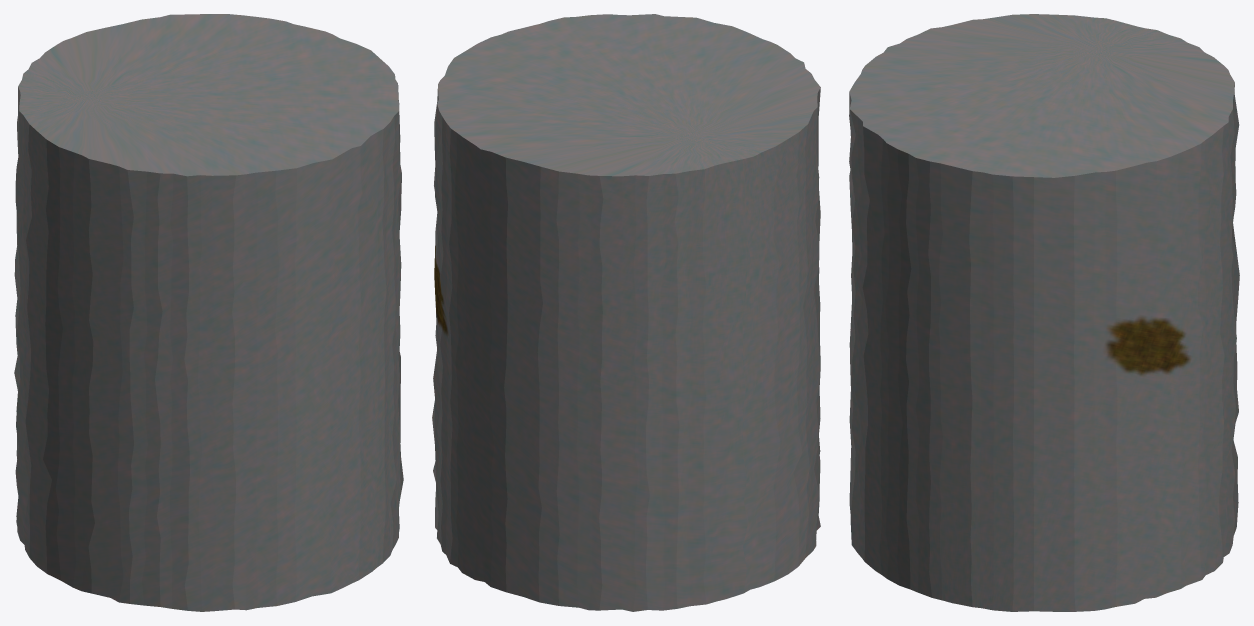
File: barrel_47.dae
3 renders of one model, left to right at view 1: azimuth 30°, elevation 25°; view 2: azimuth 150°, elevation 25°; view 3: azimuth 270°, elevation 25°, orthographic.
Visible parts, largest first — view 1: Cylinder; view 2: Cylinder; view 3: Cylinder.
Boxes of the visible parts, bbox=[...] form: Cylinder: bbox=[14, 14, 403, 611]; Cylinder: bbox=[432, 14, 820, 611]; Cylinder: bbox=[849, 14, 1239, 611].
Size of the model in its own units: 0.8154 by 0.8118 by 1.
1 material, 1 textured.
